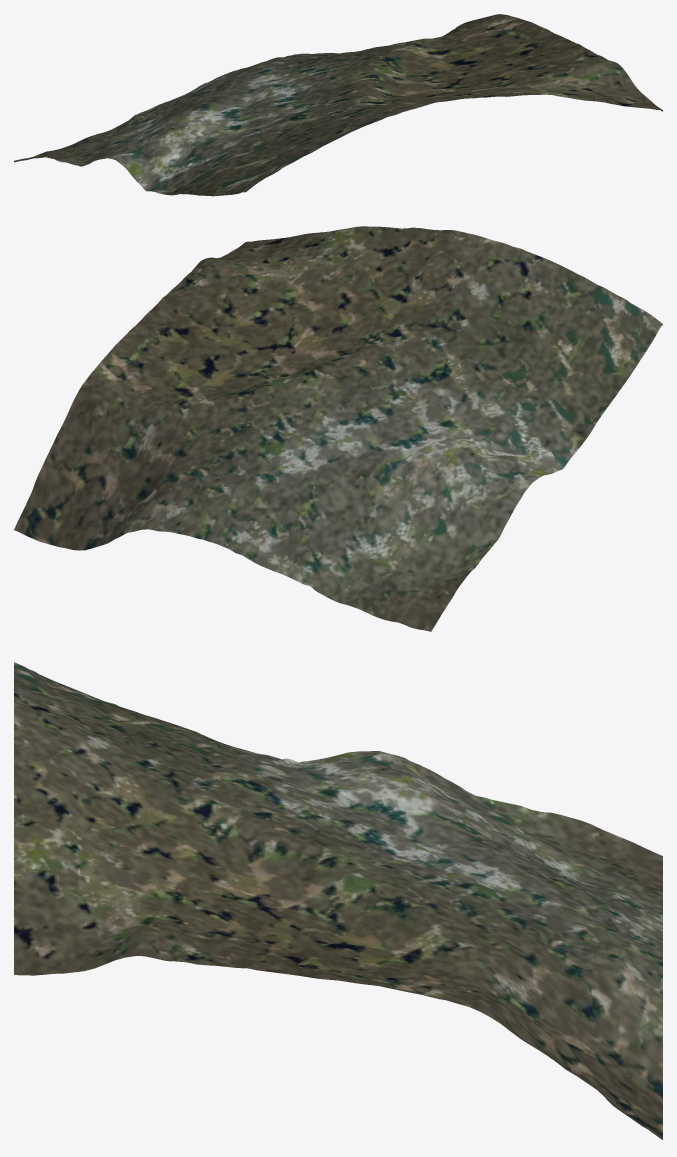
3 views of the same model, one above another, from view 1: azimuth 30°, elevation 25°; view 2: azimuth 150°, elevation 25°; view 3: azimuth 270°, elevation 25° (orthographic). The views are drawn at different scales.
Bounding box in the file's own units: 250 × 108 × 241.
Materials: 1 (1 with a texture image).
